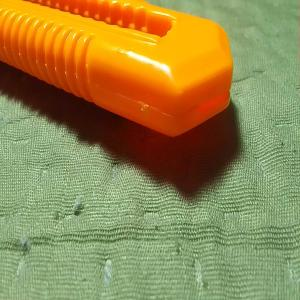estilete: (0, 0, 234, 137)
